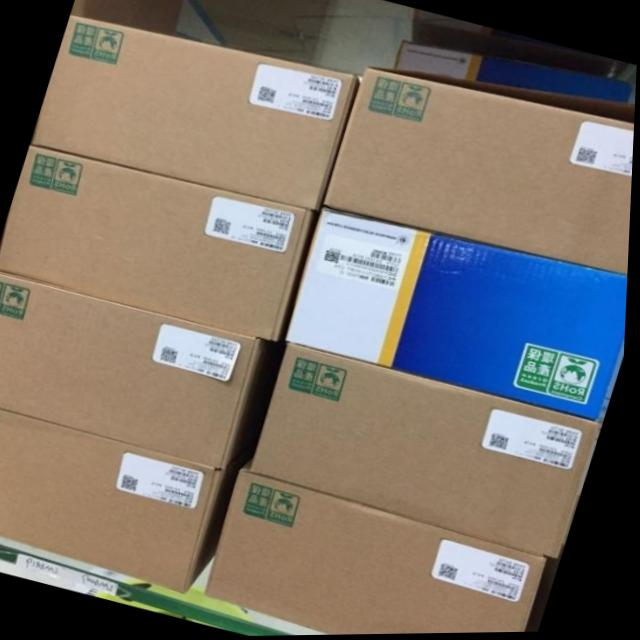box: (253, 344, 606, 560), (287, 207, 630, 425), (323, 68, 636, 277), (32, 15, 364, 212), (0, 146, 322, 342), (209, 457, 551, 636), (0, 272, 290, 471), (0, 406, 261, 594)
